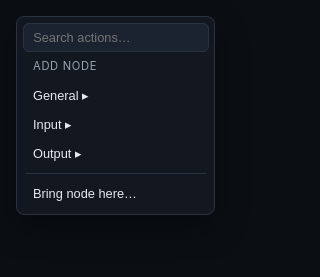
RoutingGraphContextMenu bring-node-here picker › closes the picker when the target changes
This screenshot has width=320, height=277.
Click the button "Bring node here…" at (116, 194), box [23,179,209,208]
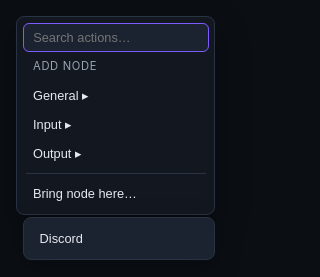
Expected: the element with class "routing-graph-node-picker" is shown, [23,217,215,260]
